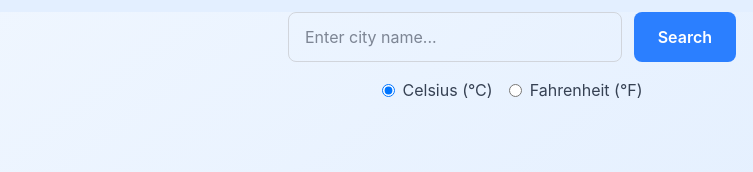
Scenario: WeatherSearchForm › shows validation error for short city name
Type "a" into the field with placeholder "Enter city name...". click: point(455, 37)
box: x1=288 y1=12 x2=622 y2=62
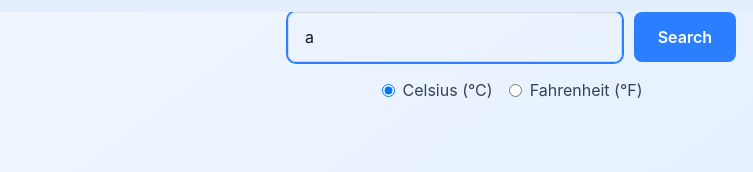
Click the button "Search". click: point(685, 37)
box: x1=634 y1=12 x2=736 y2=62
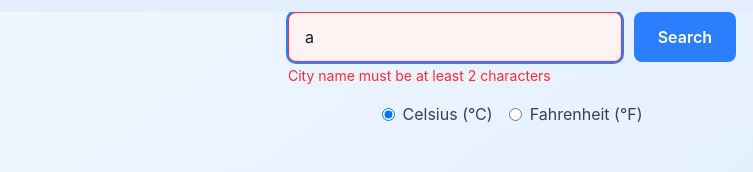
Now the text "City name must be at least 2 characters" is shown, box x1=288 y1=67 x2=551 y2=84
